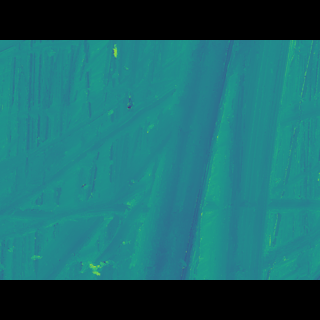Loch: (17, 71, 293, 249)
